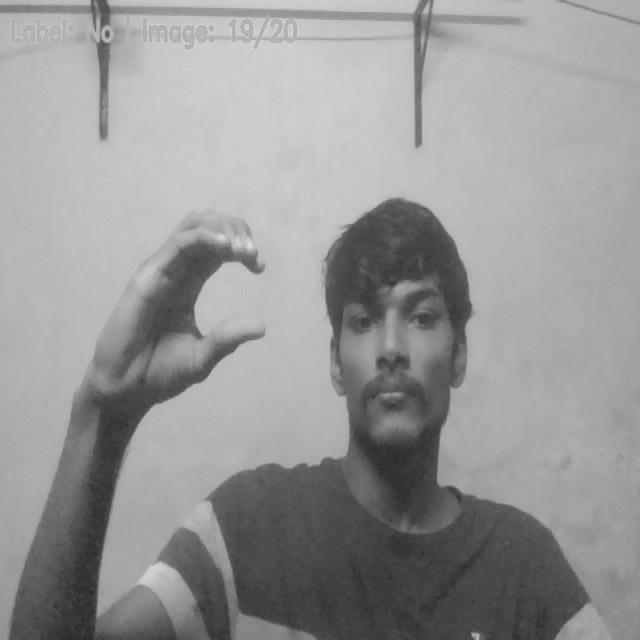No: (89, 202, 282, 415)
